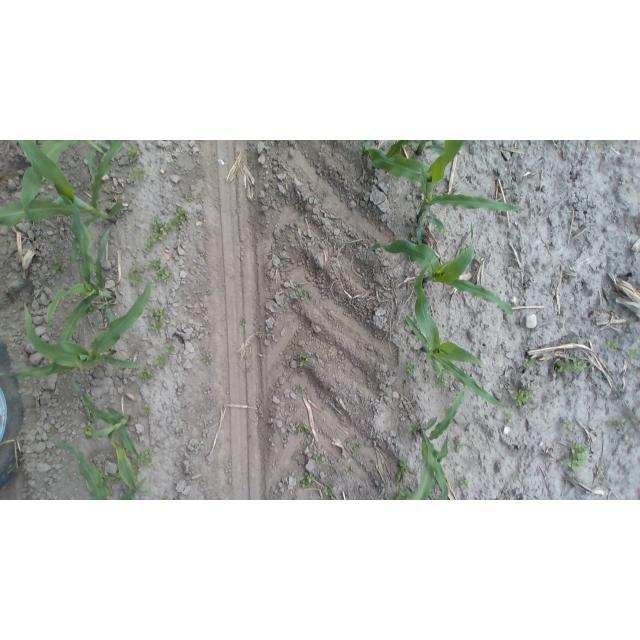Maize: (360, 140, 520, 245), (402, 251, 505, 411), (367, 223, 518, 326), (6, 140, 123, 266), (7, 283, 151, 383), (44, 197, 118, 375), (69, 375, 152, 499), (20, 140, 112, 230), (403, 381, 467, 500), (53, 443, 148, 500), (363, 140, 446, 164)
Weeds: (147, 211, 186, 245), (566, 442, 589, 472), (554, 356, 587, 376), (149, 307, 168, 334), (394, 459, 412, 486), (152, 263, 173, 285), (169, 209, 189, 232), (133, 447, 153, 468), (511, 389, 533, 408), (435, 367, 452, 389), (345, 438, 363, 458), (128, 267, 144, 285), (129, 164, 147, 180), (293, 281, 308, 300), (298, 351, 314, 368), (126, 145, 140, 163), (301, 473, 316, 488), (50, 260, 65, 275), (139, 366, 153, 382), (612, 416, 627, 430), (396, 487, 412, 499), (605, 340, 620, 352), (156, 354, 169, 367), (456, 437, 468, 451), (358, 141, 370, 155), (324, 485, 337, 497), (86, 303, 98, 316), (181, 192, 195, 203), (562, 418, 574, 430), (110, 471, 122, 483), (459, 477, 470, 490), (524, 358, 537, 369), (436, 226, 450, 236), (293, 426, 307, 436), (165, 341, 176, 353), (404, 364, 416, 375), (409, 421, 420, 433), (101, 470, 109, 484), (141, 406, 152, 416), (313, 454, 324, 464), (628, 349, 638, 360), (512, 471, 523, 481), (144, 241, 154, 252), (203, 355, 213, 365), (345, 466, 356, 475), (87, 412, 96, 423), (504, 409, 513, 420), (84, 426, 93, 437), (294, 386, 306, 394), (240, 317, 249, 327), (50, 426, 59, 435), (295, 202, 303, 212), (592, 140, 602, 148), (459, 245, 467, 255), (281, 276, 291, 283), (326, 353, 334, 361), (632, 366, 638, 376), (609, 140, 619, 146), (475, 307, 483, 314), (160, 495, 170, 500), (47, 299, 54, 306), (553, 140, 560, 144)
